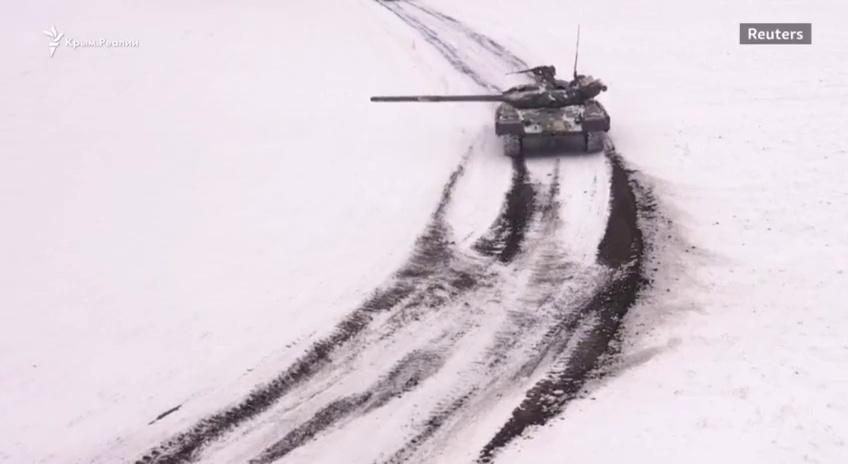tank: (369, 63, 612, 159)
